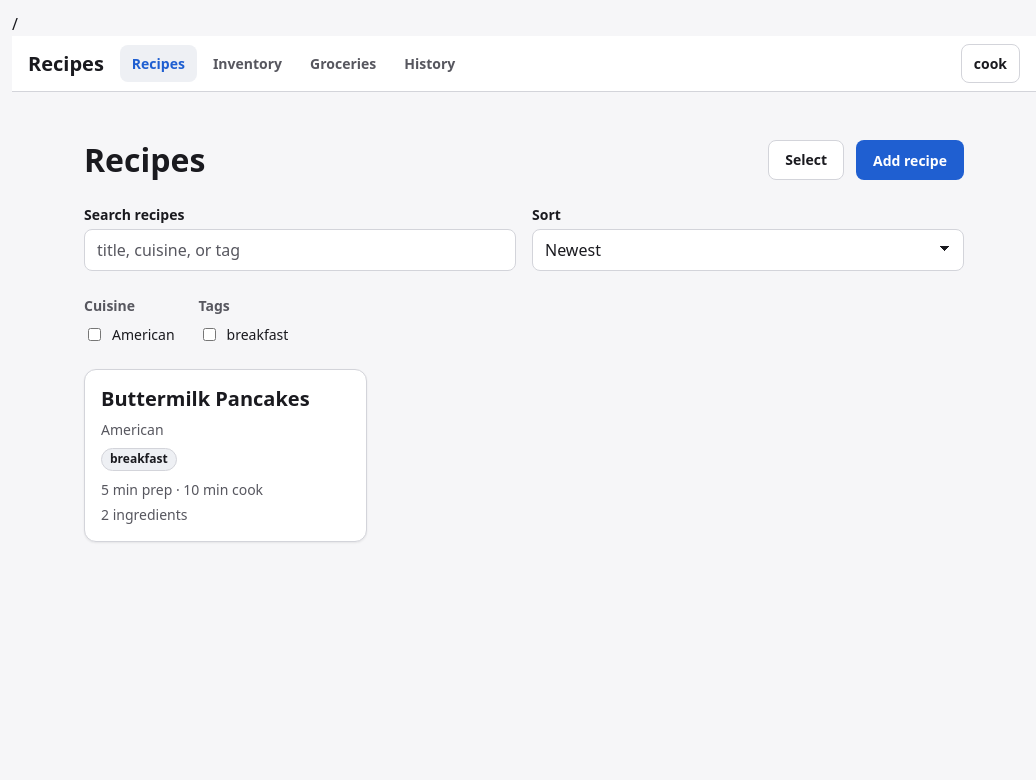
Test: auth flow › logout from the user menu clears the session and returns to login
This screenshot has width=1036, height=780.
Expected: the heading "Recipes" is shown, x1=84 y1=140 x2=205 y2=180
Click the button "cook": point(990, 64) x1=961 y1=44 x2=1020 y2=83
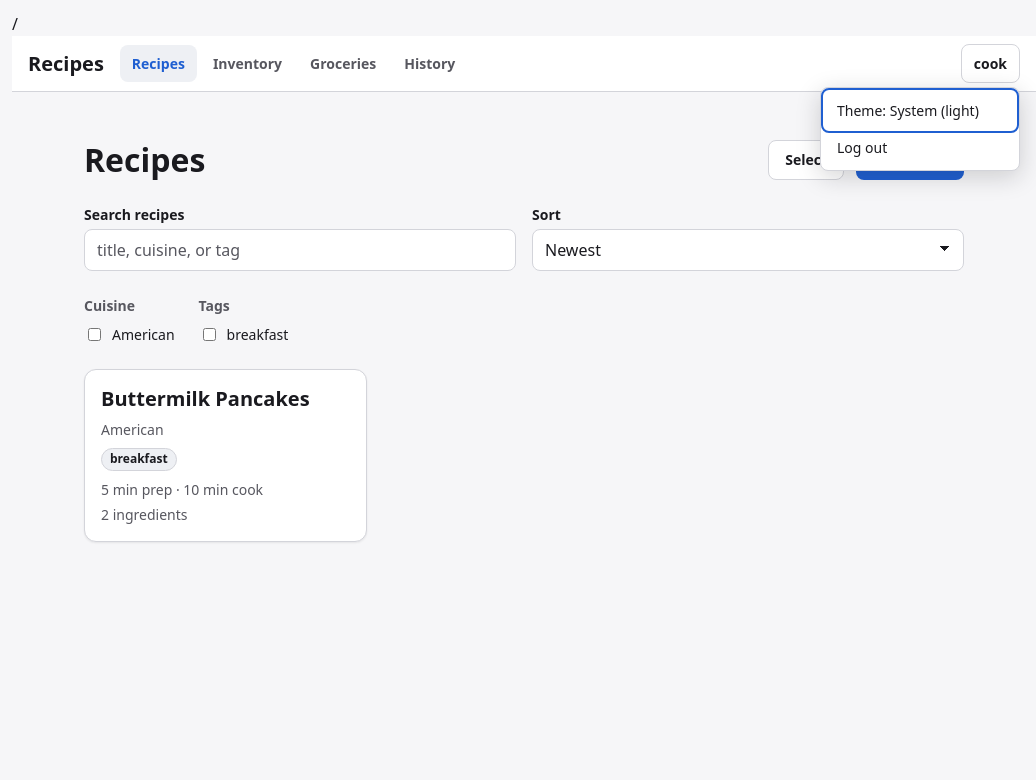
Click the button "Log out": point(920, 148) x1=825 y1=129 x2=1015 y2=166
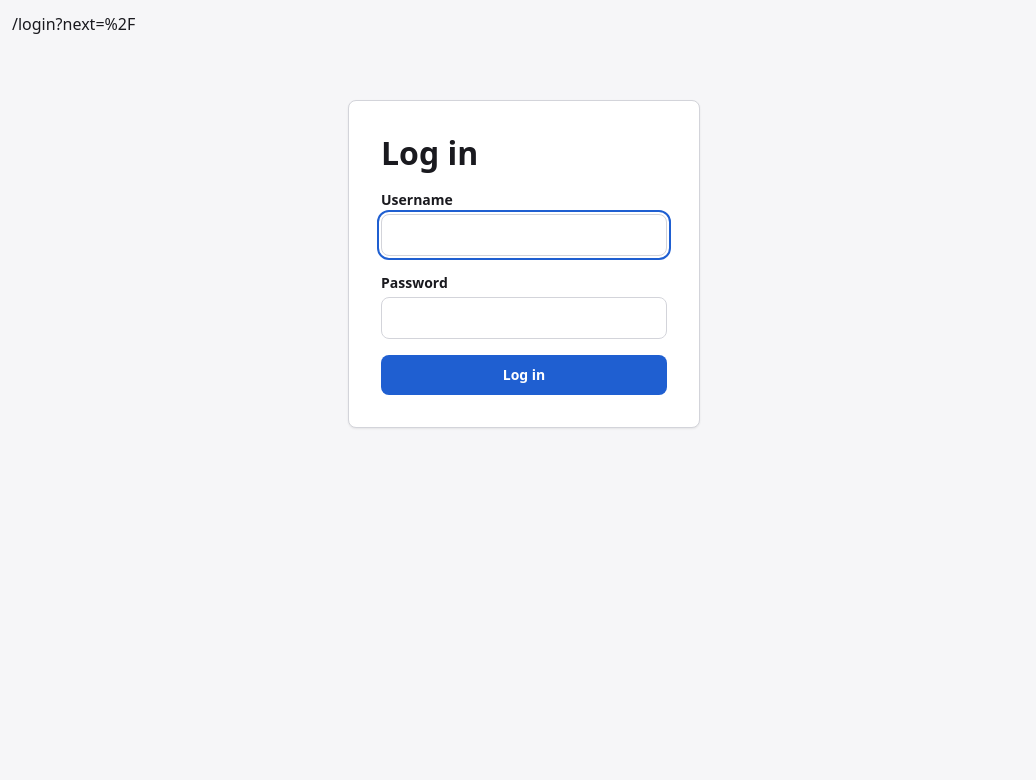
Result: the heading "Log in" is shown at x1=381 y1=131 x2=478 y2=174
